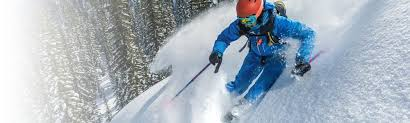skis: (224, 68, 286, 122)
